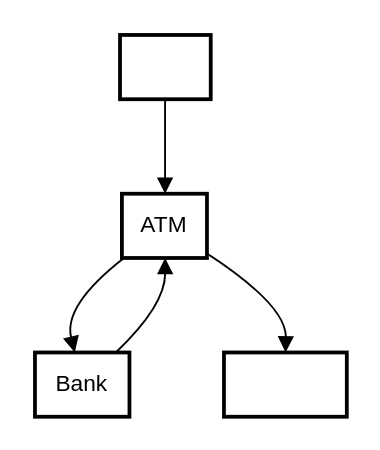
The diagram is 380 pixels wide and 450 high, and some of its shapes have lost their labels. Here are the shapes that lost their labels. From the top down, the centre of each, then its label:
At point 164,66: "User".
At point 284,384: "Printer".
